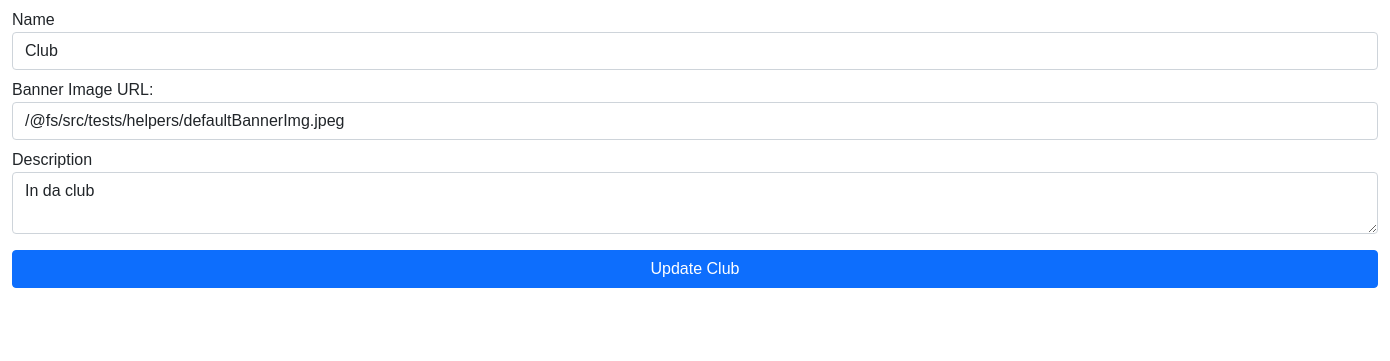
Test: EditClubForm › Shows validation error when description is empty
# Shows error on submit because current input is invalid
Clear the text box labelled "Description" at (695, 203), box [12,172,1378,234]
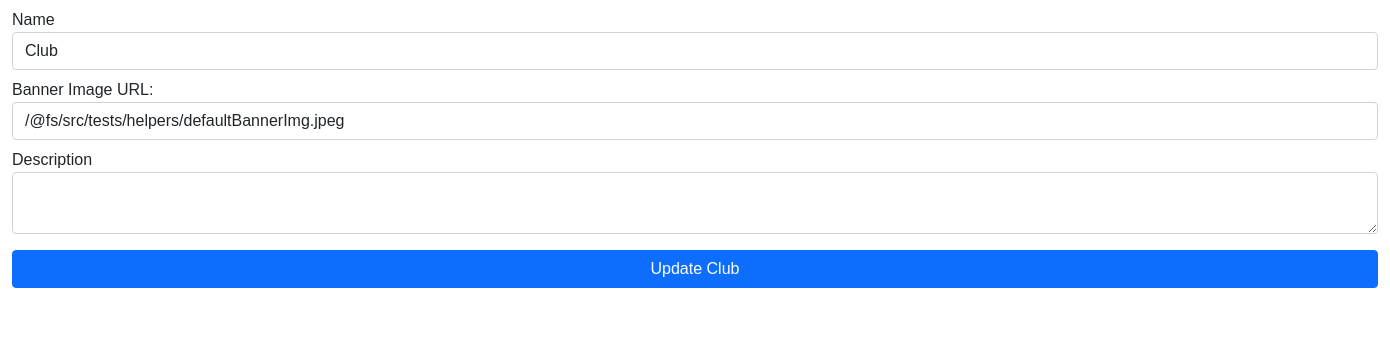
Click the button "Update Club" at (695, 269), box [12,250,1378,288]
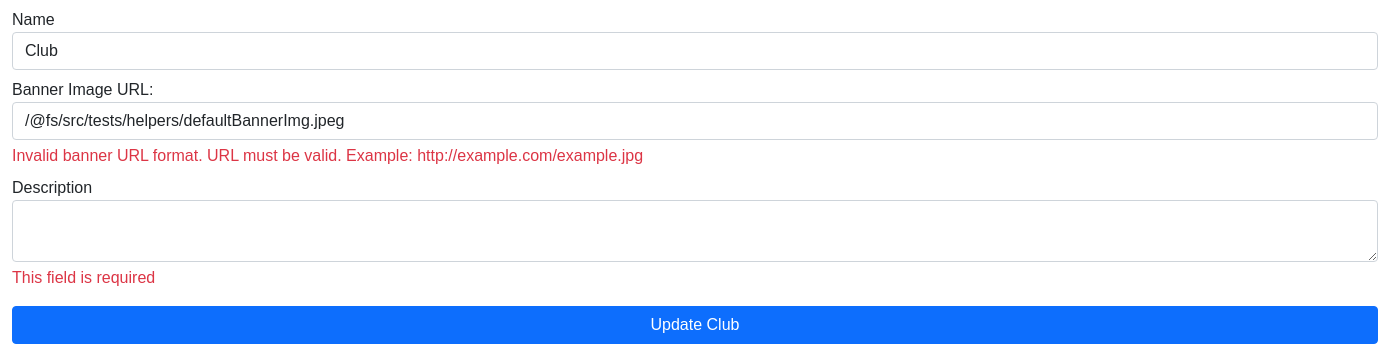
Check: the text "This field is required" is shown, box [12,269,155,286]
